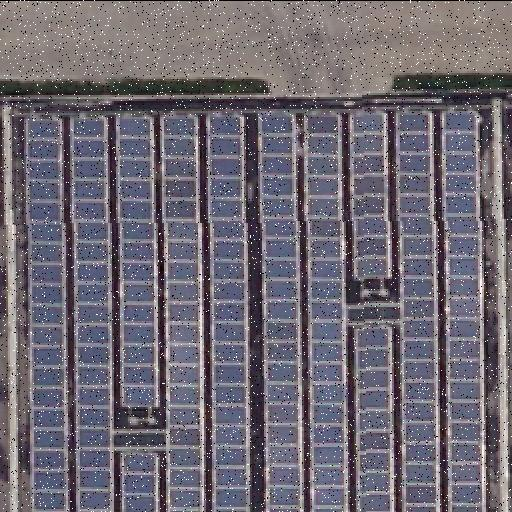solar-panel: (441, 108, 487, 512), (25, 113, 71, 511), (394, 108, 438, 512), (208, 112, 252, 512), (162, 112, 206, 512), (70, 112, 114, 512), (303, 112, 345, 512), (259, 112, 301, 512), (116, 112, 160, 408), (351, 326, 393, 512), (348, 111, 392, 281), (119, 449, 161, 511)
